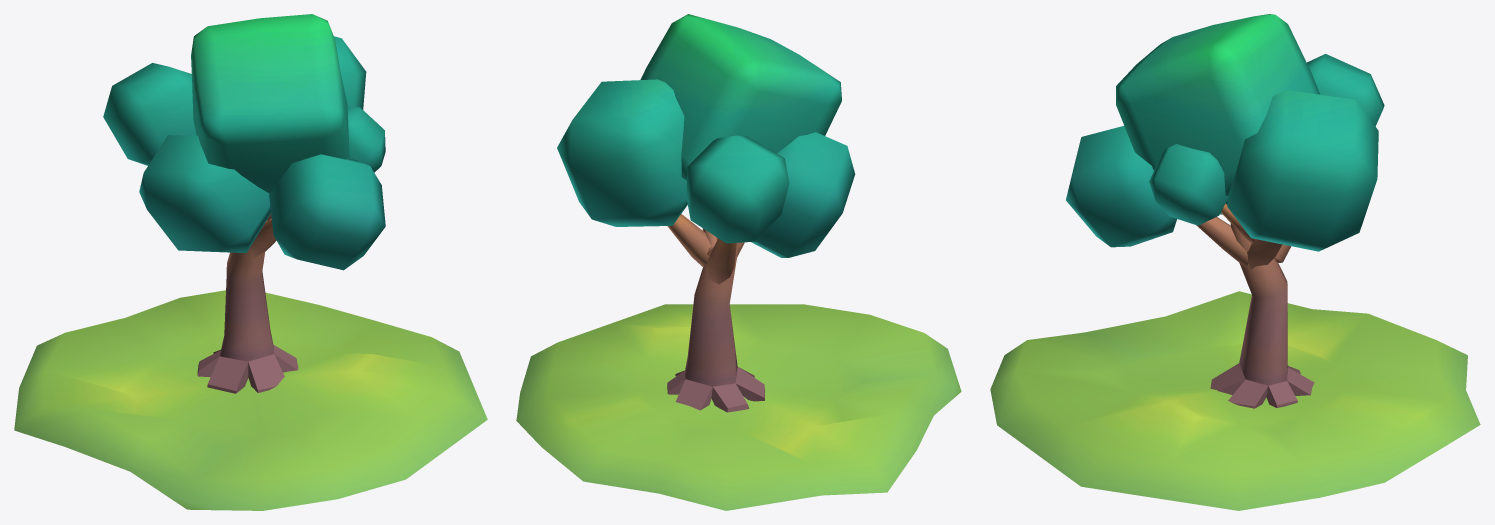
File: TreeTemp.fbx
The picture shows the model from 3 angles, left to right: view 1: azimuth 30°, elevation 25°; view 2: azimuth 150°, elevation 25°; view 3: azimuth 270°, elevation 25°; orthographic projection. The views are drawn at different scales.
Visible parts, largest first — view 1: pCylinder234; view 2: pCylinder234; view 3: pCylinder234.
Part boxes in pixels (<box>): pCylinder234: <box>14,14,487,510</box>; pCylinder234: <box>516,14,961,510</box>; pCylinder234: <box>990,14,1480,510</box>.
Bounding box in the file's own units: 13.7 × 12.61 × 14.02.
